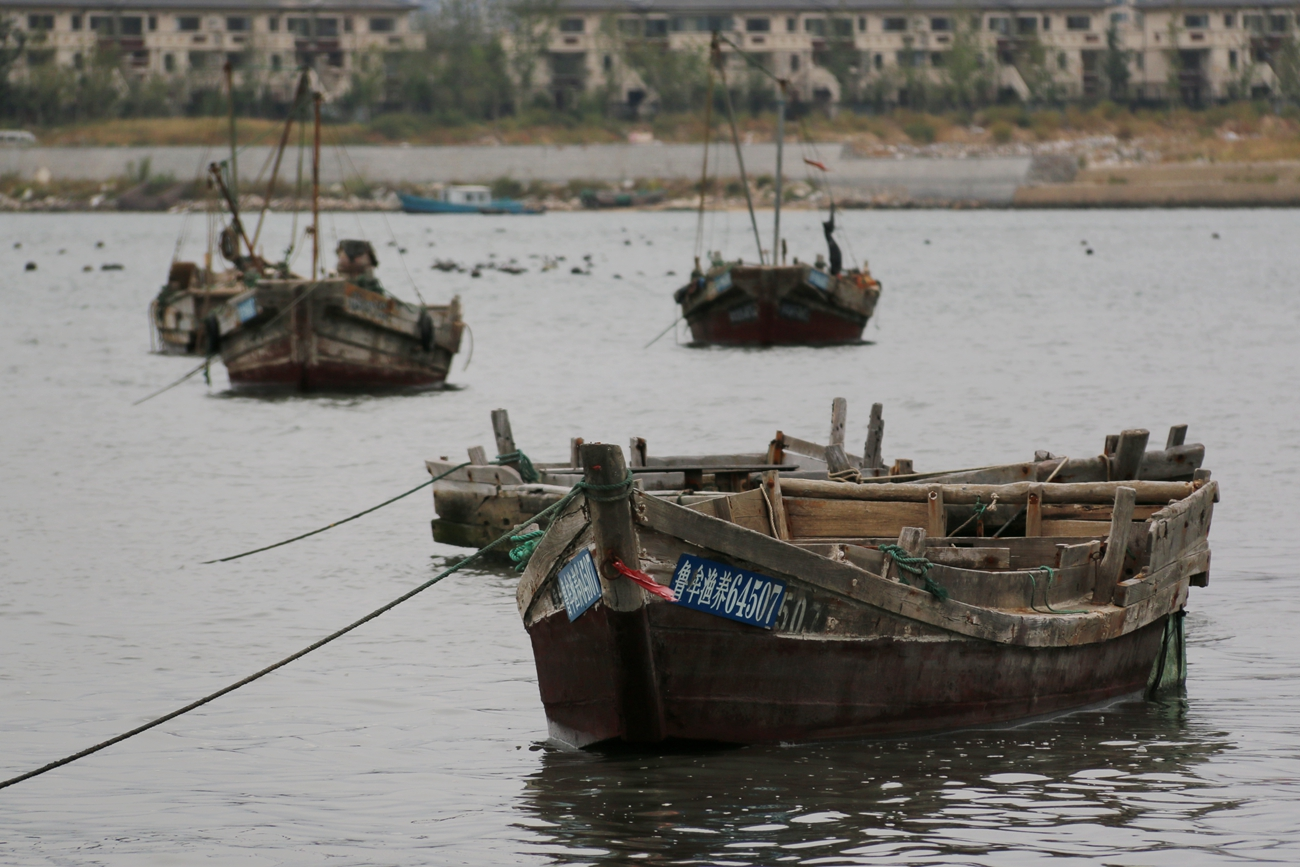otherboat: (512, 396, 1230, 763), (192, 238, 472, 389), (649, 207, 885, 346), (138, 208, 313, 358)
